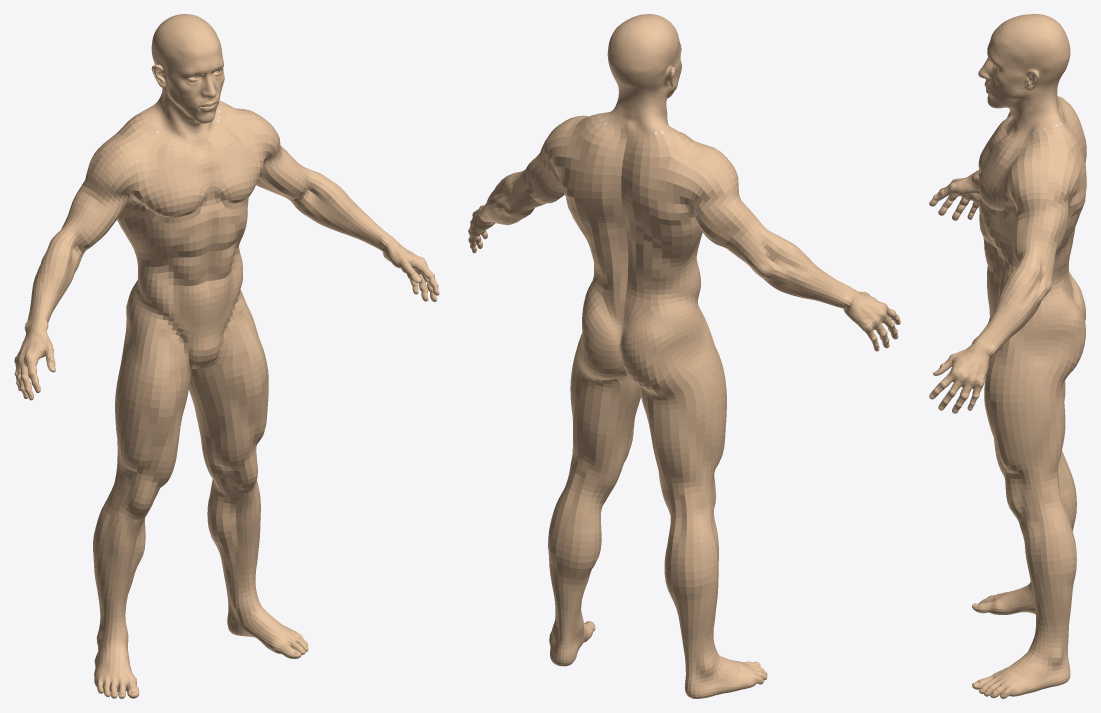
The model's file is body.glb.
3 views of the same model, side by side, from view 1: azimuth 30°, elevation 25°; view 2: azimuth 150°, elevation 25°; view 3: azimuth 270°, elevation 25° (orthographic). The views are drawn at different scales.
Visible parts, largest first — view 1: Right_thigh, Left _thigh, Chest, Pelvic, head, Right_lower_leg, Left _lower_leg, Abdominal, Left_fore _arm, Right_lats, Right_fore _arm, Right_brachial (+11 smaller); view 2: Upper_back, Right_thigh, Left _thigh, Right_lower_leg, Left _lower_leg, head, Lower_back, Right_fore _arm, Right_brachial, Right_shoulder, neck, Right_foot (+8 smaller); view 3: Left _thigh, head, Left _lower_leg, Left_fore _arm, Left_shoulder, Left_brachial, Left _foot, Upper_back, Left _knee, Chest, Left_wrist, neck (+9 smaller).
Boxes of the visible parts, <box> form: Right_thigh: <box>115,281,190,483</box>; Left _thigh: <box>189,289,268,461</box>; Chest: <box>136,125,263,217</box>; Pelvic: <box>162,248,241,372</box>; head: <box>151,14,224,123</box>; Right_lower_leg: <box>93,489,151,640</box>; Left _lower_leg: <box>207,479,260,612</box>; Abdominal: <box>159,198,247,265</box>; Left_fore _arm: <box>288,169,394,251</box>; Right_lats: <box>117,197,163,315</box>; Right_fore _arm: <box>24,232,82,333</box>; Right_brachial: <box>58,180,135,254</box>; Upper_back: <box>560,113,696,263</box>; Right_thigh: <box>620,294,726,483</box>; Left _thigh: <box>570,281,640,465</box>; Right_lower_leg: <box>664,509,718,671</box>; Left _lower_leg: <box>548,487,604,641</box>; head: <box>607,14,681,98</box>; Lower_back: <box>587,241,684,323</box>; Right_fore _arm: <box>748,233,856,311</box>; Right_brachial: <box>690,189,772,264</box>; Right_shoulder: <box>679,146,738,217</box>; neck: <box>601,83,674,133</box>; Right_foot: <box>684,654,767,698</box>; Left _thigh: <box>984,291,1085,474</box>; head: <box>978,14,1070,108</box>; Left _lower_leg: <box>1020,508,1076,657</box>; Left_fore _arm: <box>972,254,1053,357</box>; Left_shoulder: <box>1003,156,1077,210</box>; Left_brachial: <box>1009,196,1074,267</box>; Left _foot: <box>972,648,1070,698</box>; Upper_back: <box>1045,96,1086,255</box>; Left _knee: <box>1001,465,1064,526</box>; Chest: <box>978,112,1020,210</box>; Left_wrist: <box>929,343,990,413</box>; neck: <box>1008,78,1063,135</box>.
Bounding box in the file's own units: 2.83 × 4.2 × 0.9483.
